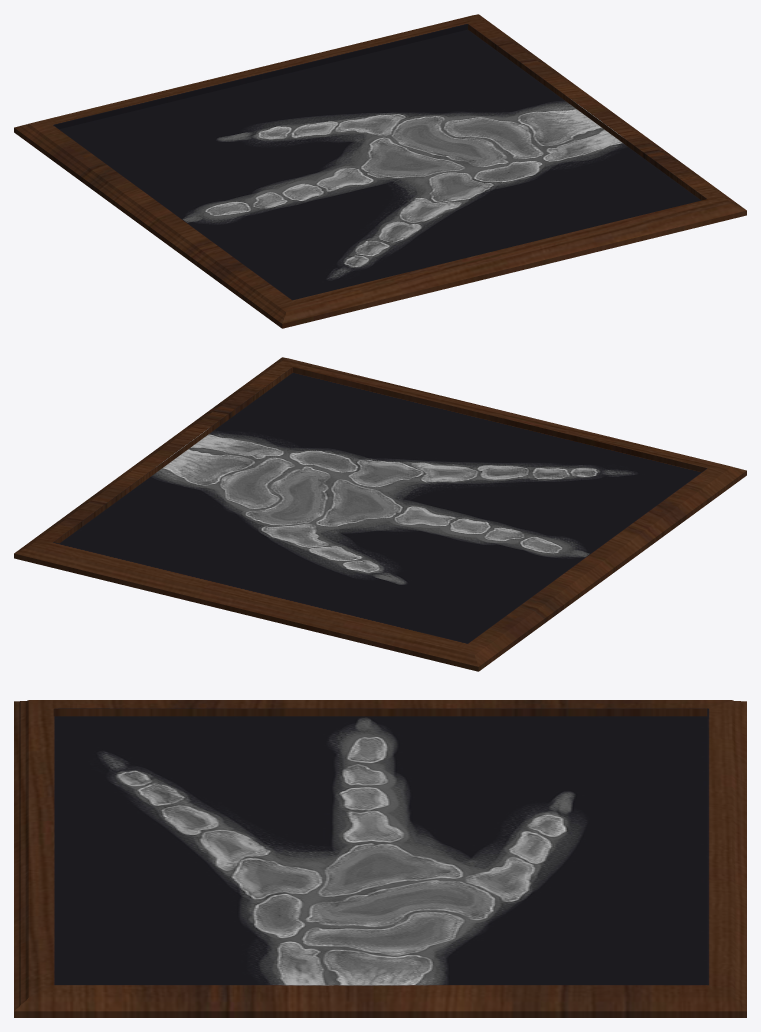
The model's file is cuadro3.fbx.
3 views of the same model, one above another, from view 1: azimuth 30°, elevation 25°; view 2: azimuth 150°, elevation 25°; view 3: azimuth 270°, elevation 25° (orthographic). The views are drawn at different scales.
Parts seen in each view (by area): view 1: picture1:cuadro1_manu; view 2: picture1:cuadro1_manu; view 3: picture1:cuadro1_manu.
Boxes of the visible parts, x1,y1,x2,y2 form: picture1:cuadro1_manu: (14,14,746,328); picture1:cuadro1_manu: (14,357,746,671); picture1:cuadro1_manu: (14,700,746,1017).
Bounding box in the file's own units: 3.83 × 0.0923 × 3.83.
Materials: 1 (1 with a texture image).
